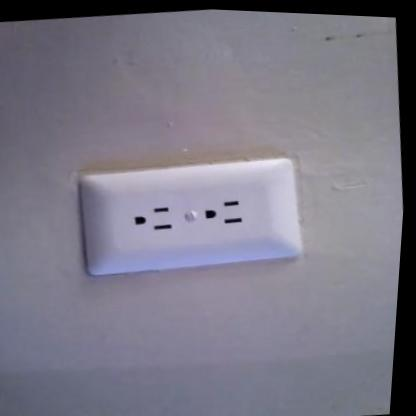OUTLET: (75, 147, 305, 283)
